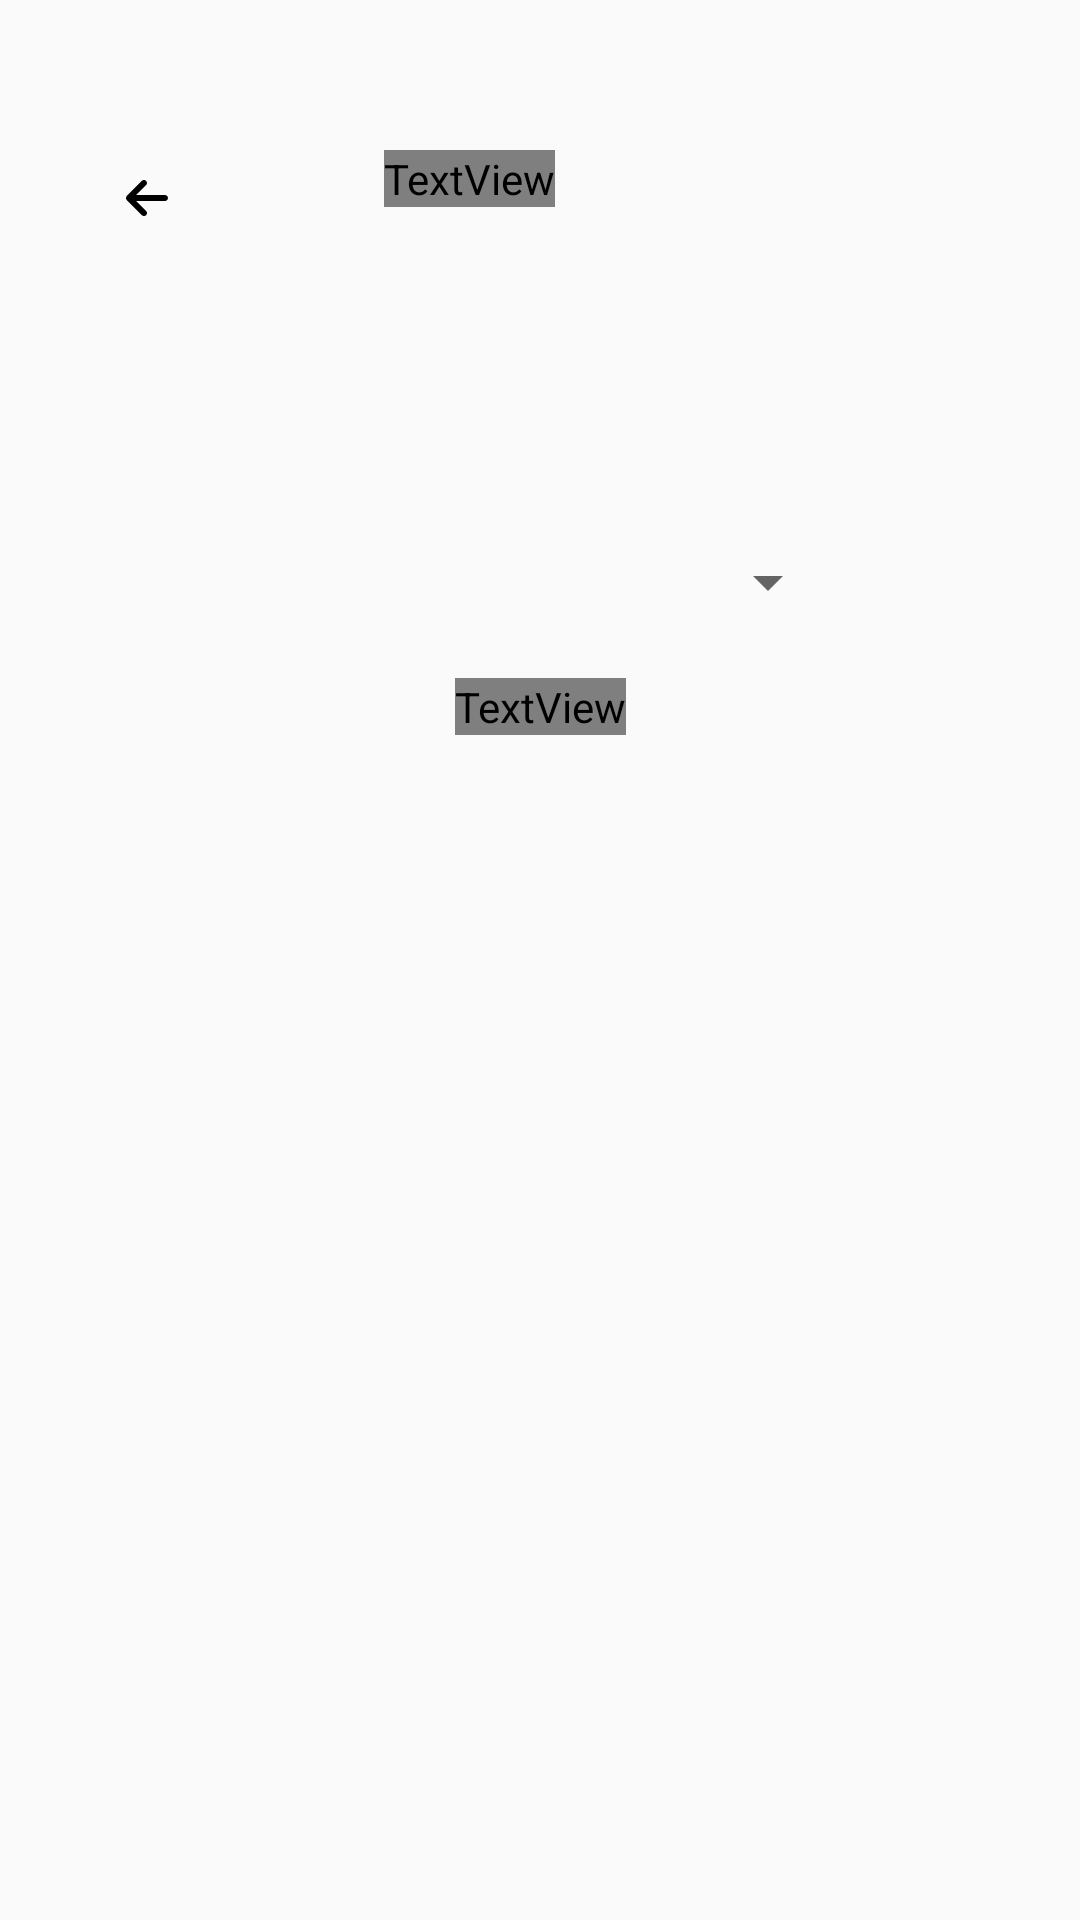

Where icons sit on this 1080 x 1920 app screen, as (x1, y1, x2, y2):
backarrow: (126, 180, 168, 216)
